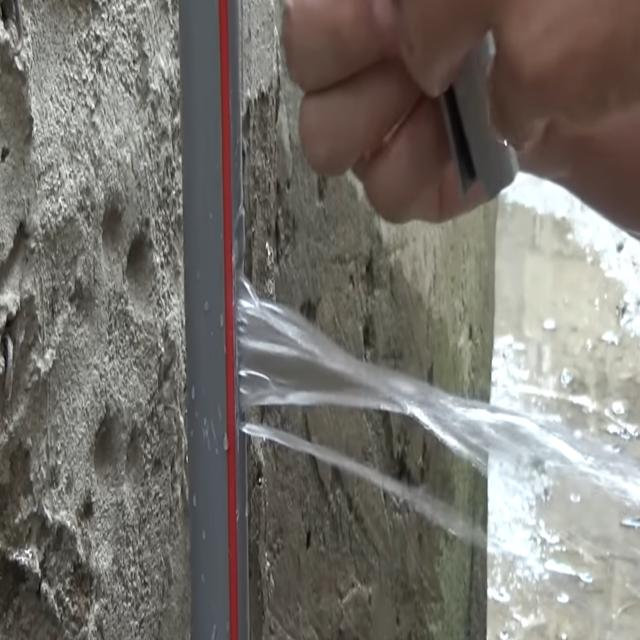leak: (236, 276, 640, 511), (240, 422, 486, 549)
